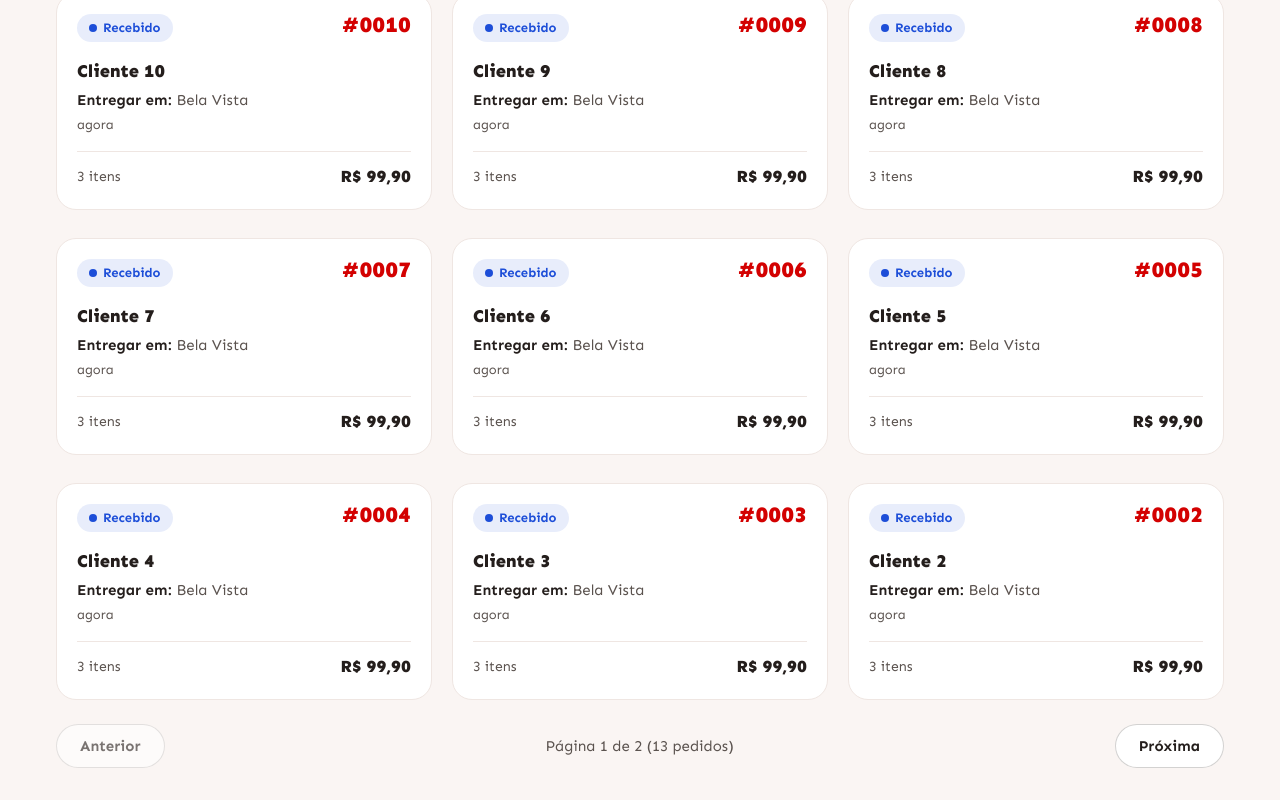
Test case: lista de pedidos › pagina a lista de 12 em 12
(page scrolled)
Expected: the text "Página 1 de 2 (13 pedidos)" is shown, x1=545 y1=735 x2=734 y2=757
Expected: the button "Anterior" is disabled, x1=56 y1=724 x2=165 y2=768
Click the button "Próxima" at (1169, 746), box x1=1115 y1=724 x2=1224 y2=768
(page scrolled)
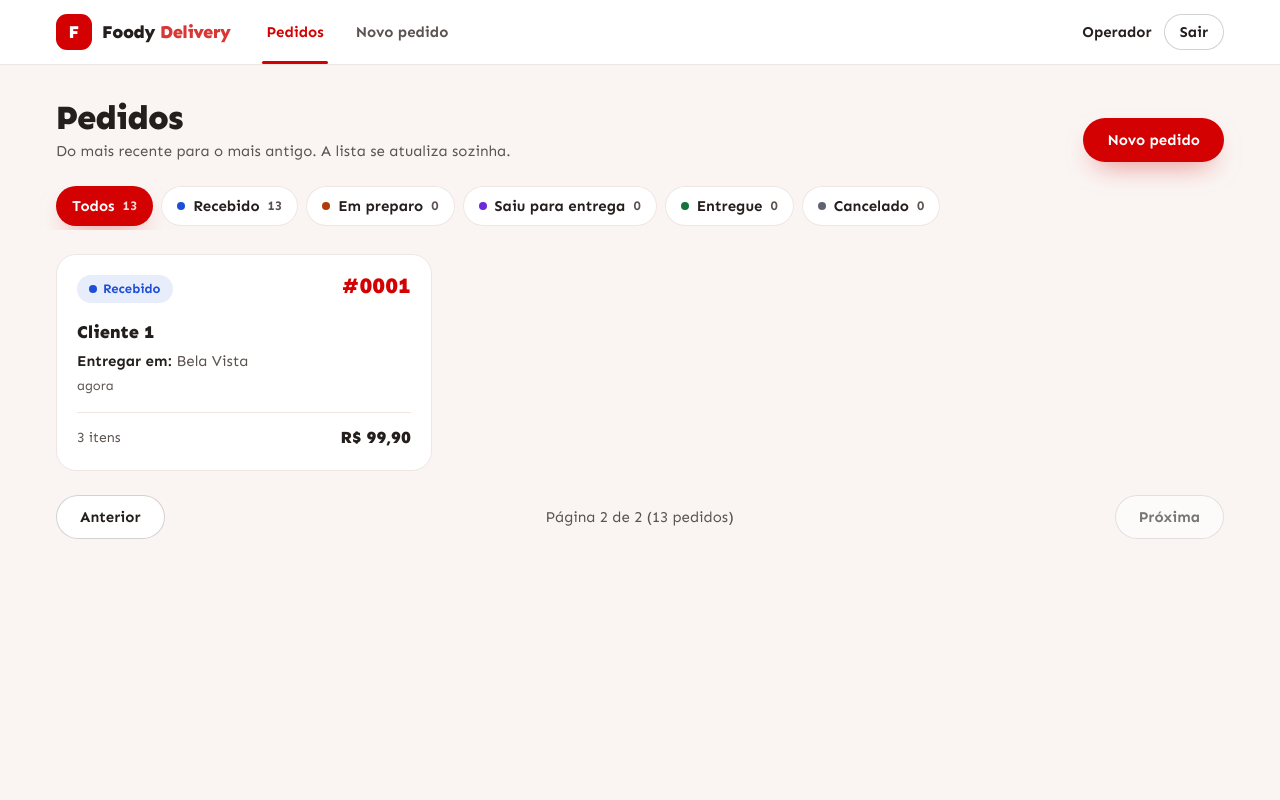
Expected: the text "Cliente 1" is shown, x1=77 y1=320 x2=155 y2=342
Now the text "Página 2 de 2 (13 pedidos)" is shown, box x1=545 y1=506 x2=734 y2=528
Now the button "Próxima" is disabled, box x1=1115 y1=495 x2=1224 y2=539
